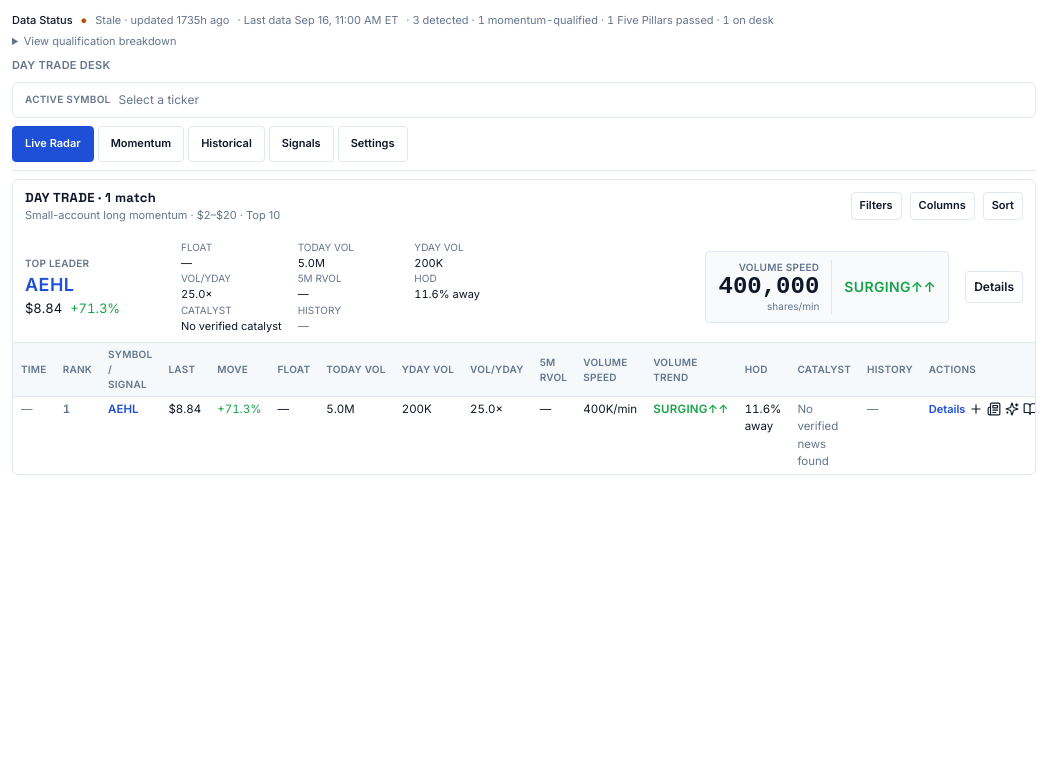
Scenario: Radar workspace layout › uses desktop workspace tabs and shows Live Radar panel by default
Expected: the text "DAY TRADE DESK" is shown, [12,58,110,72]
Expected: the element with test id "radar-desktop-tabs" is shown, [12,126,1036,170]
Step 1. Click the tab "Momentum" → [141, 144], box [98,126,184,162]
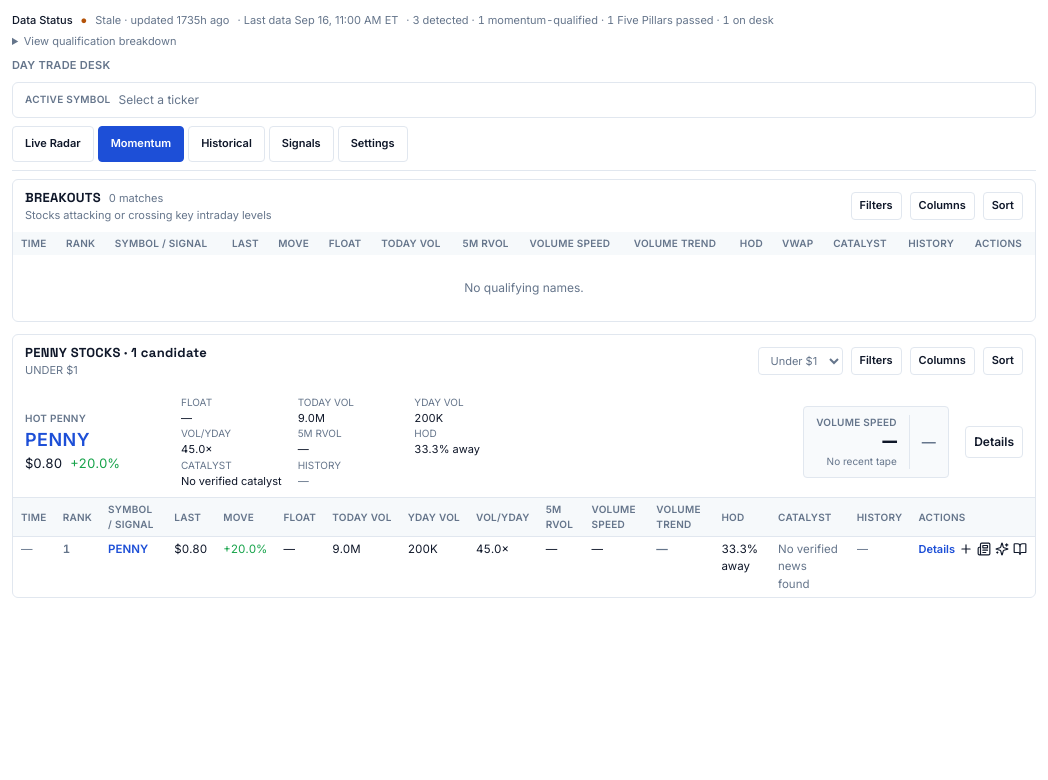
Expected: the button "PENNY" is shown, [25,426,90,454]
Step 2. Click the tab "Live Radar" → [53, 144], box [12,126,94,162]
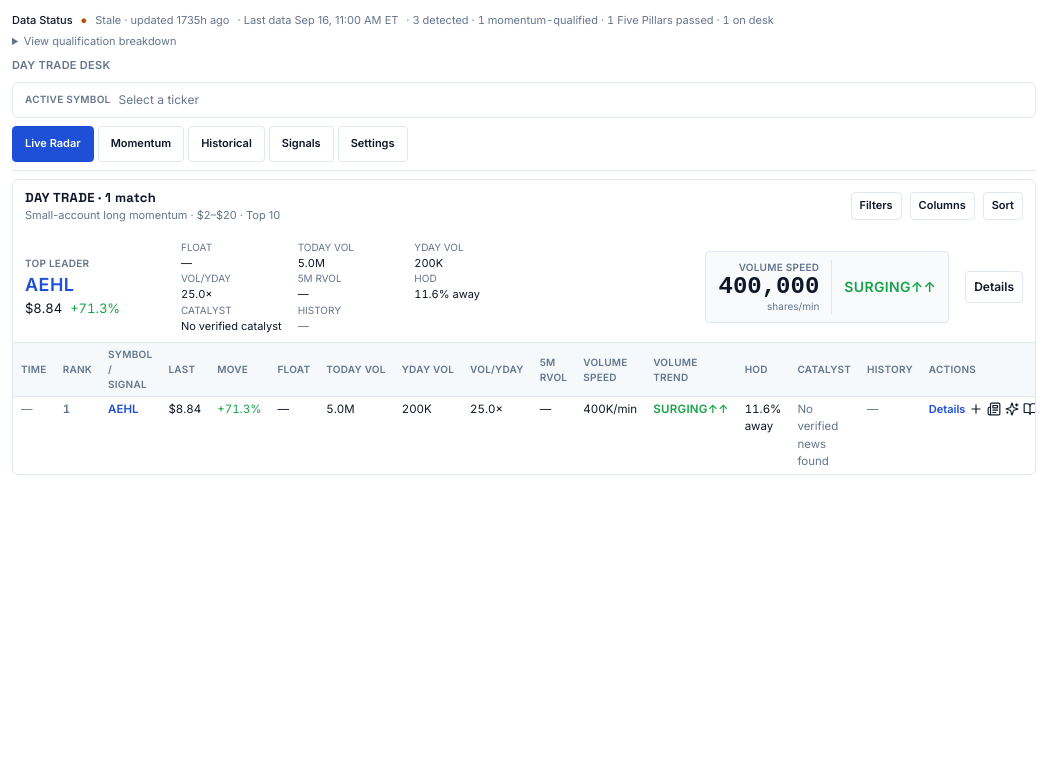
Expected: the text "Select a ticker" is shown, [118,90,199,108]
Expected: the heading "PENNY" is gone
Expected: the button "AEHL" is shown, [25,270,74,298]
